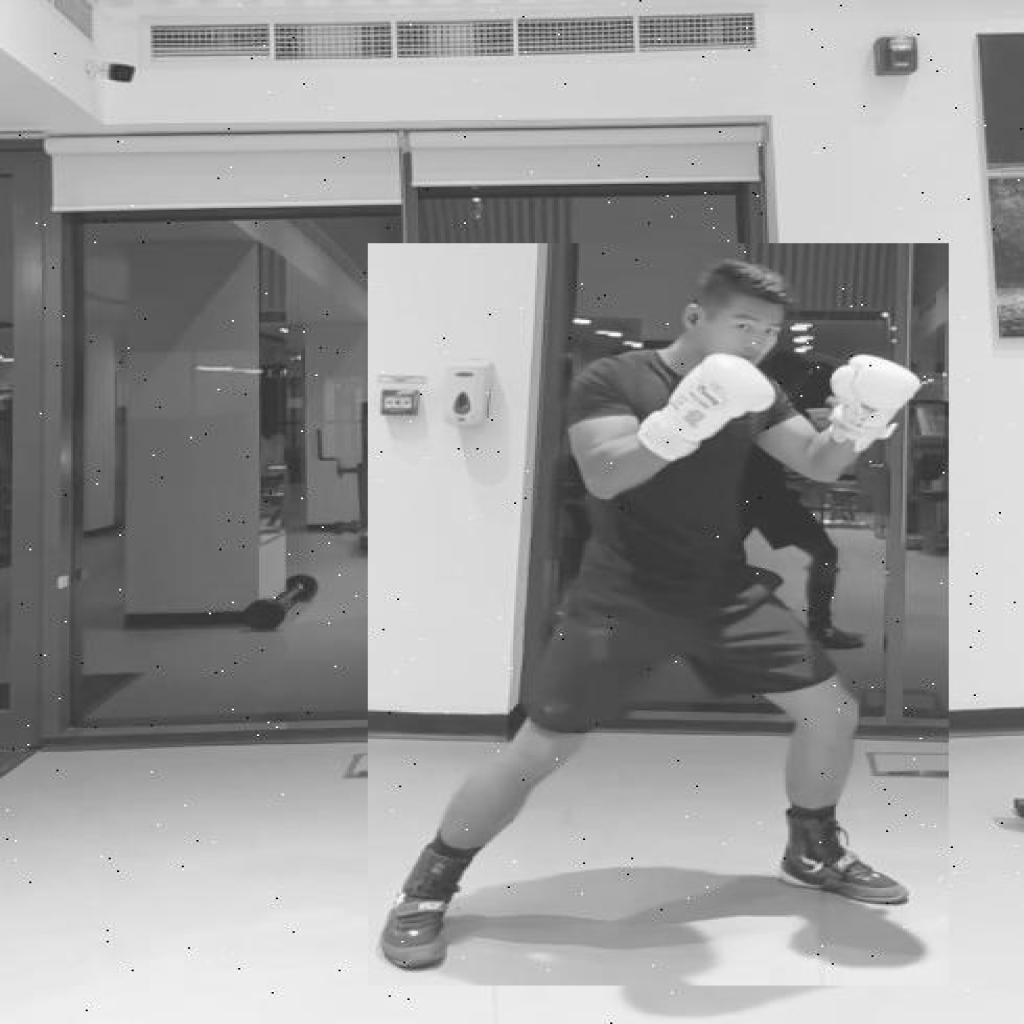no punch: (368, 243, 948, 985)
